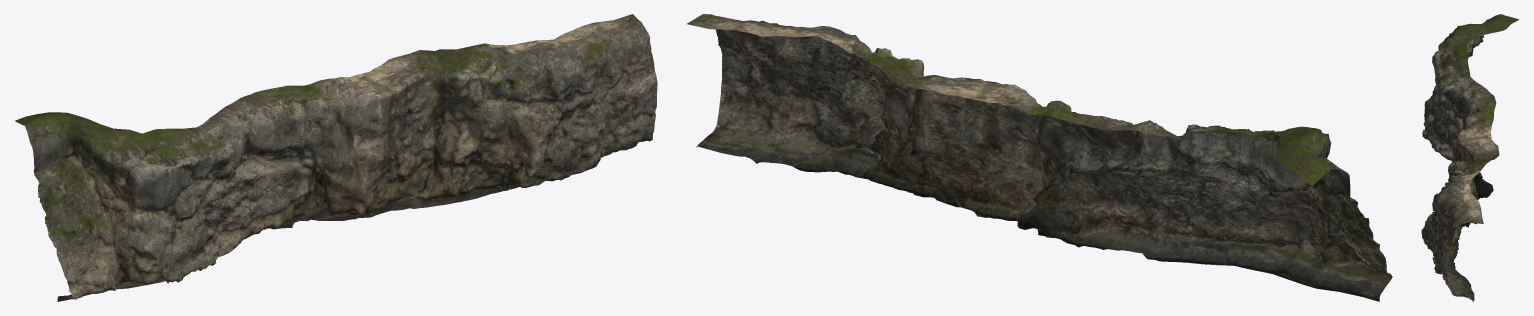
File: cliff.obj
The picture shows the model from 3 angles, left to right: view 1: azimuth 30°, elevation 25°; view 2: azimuth 150°, elevation 25°; view 3: azimuth 270°, elevation 25°; orthographic projection. The views are drawn at different scales.
Visible parts, largest first — view 1: cliff; view 2: cliff; view 3: cliff.
Part boxes in pixels (x1,y1,x2,y2): cliff: [15, 14, 657, 301]; cliff: [687, 14, 1392, 301]; cliff: [1421, 14, 1518, 301].
Size of the model in its own units: 40.92 by 10.07 by 8.64.
1 material, 1 textured.
